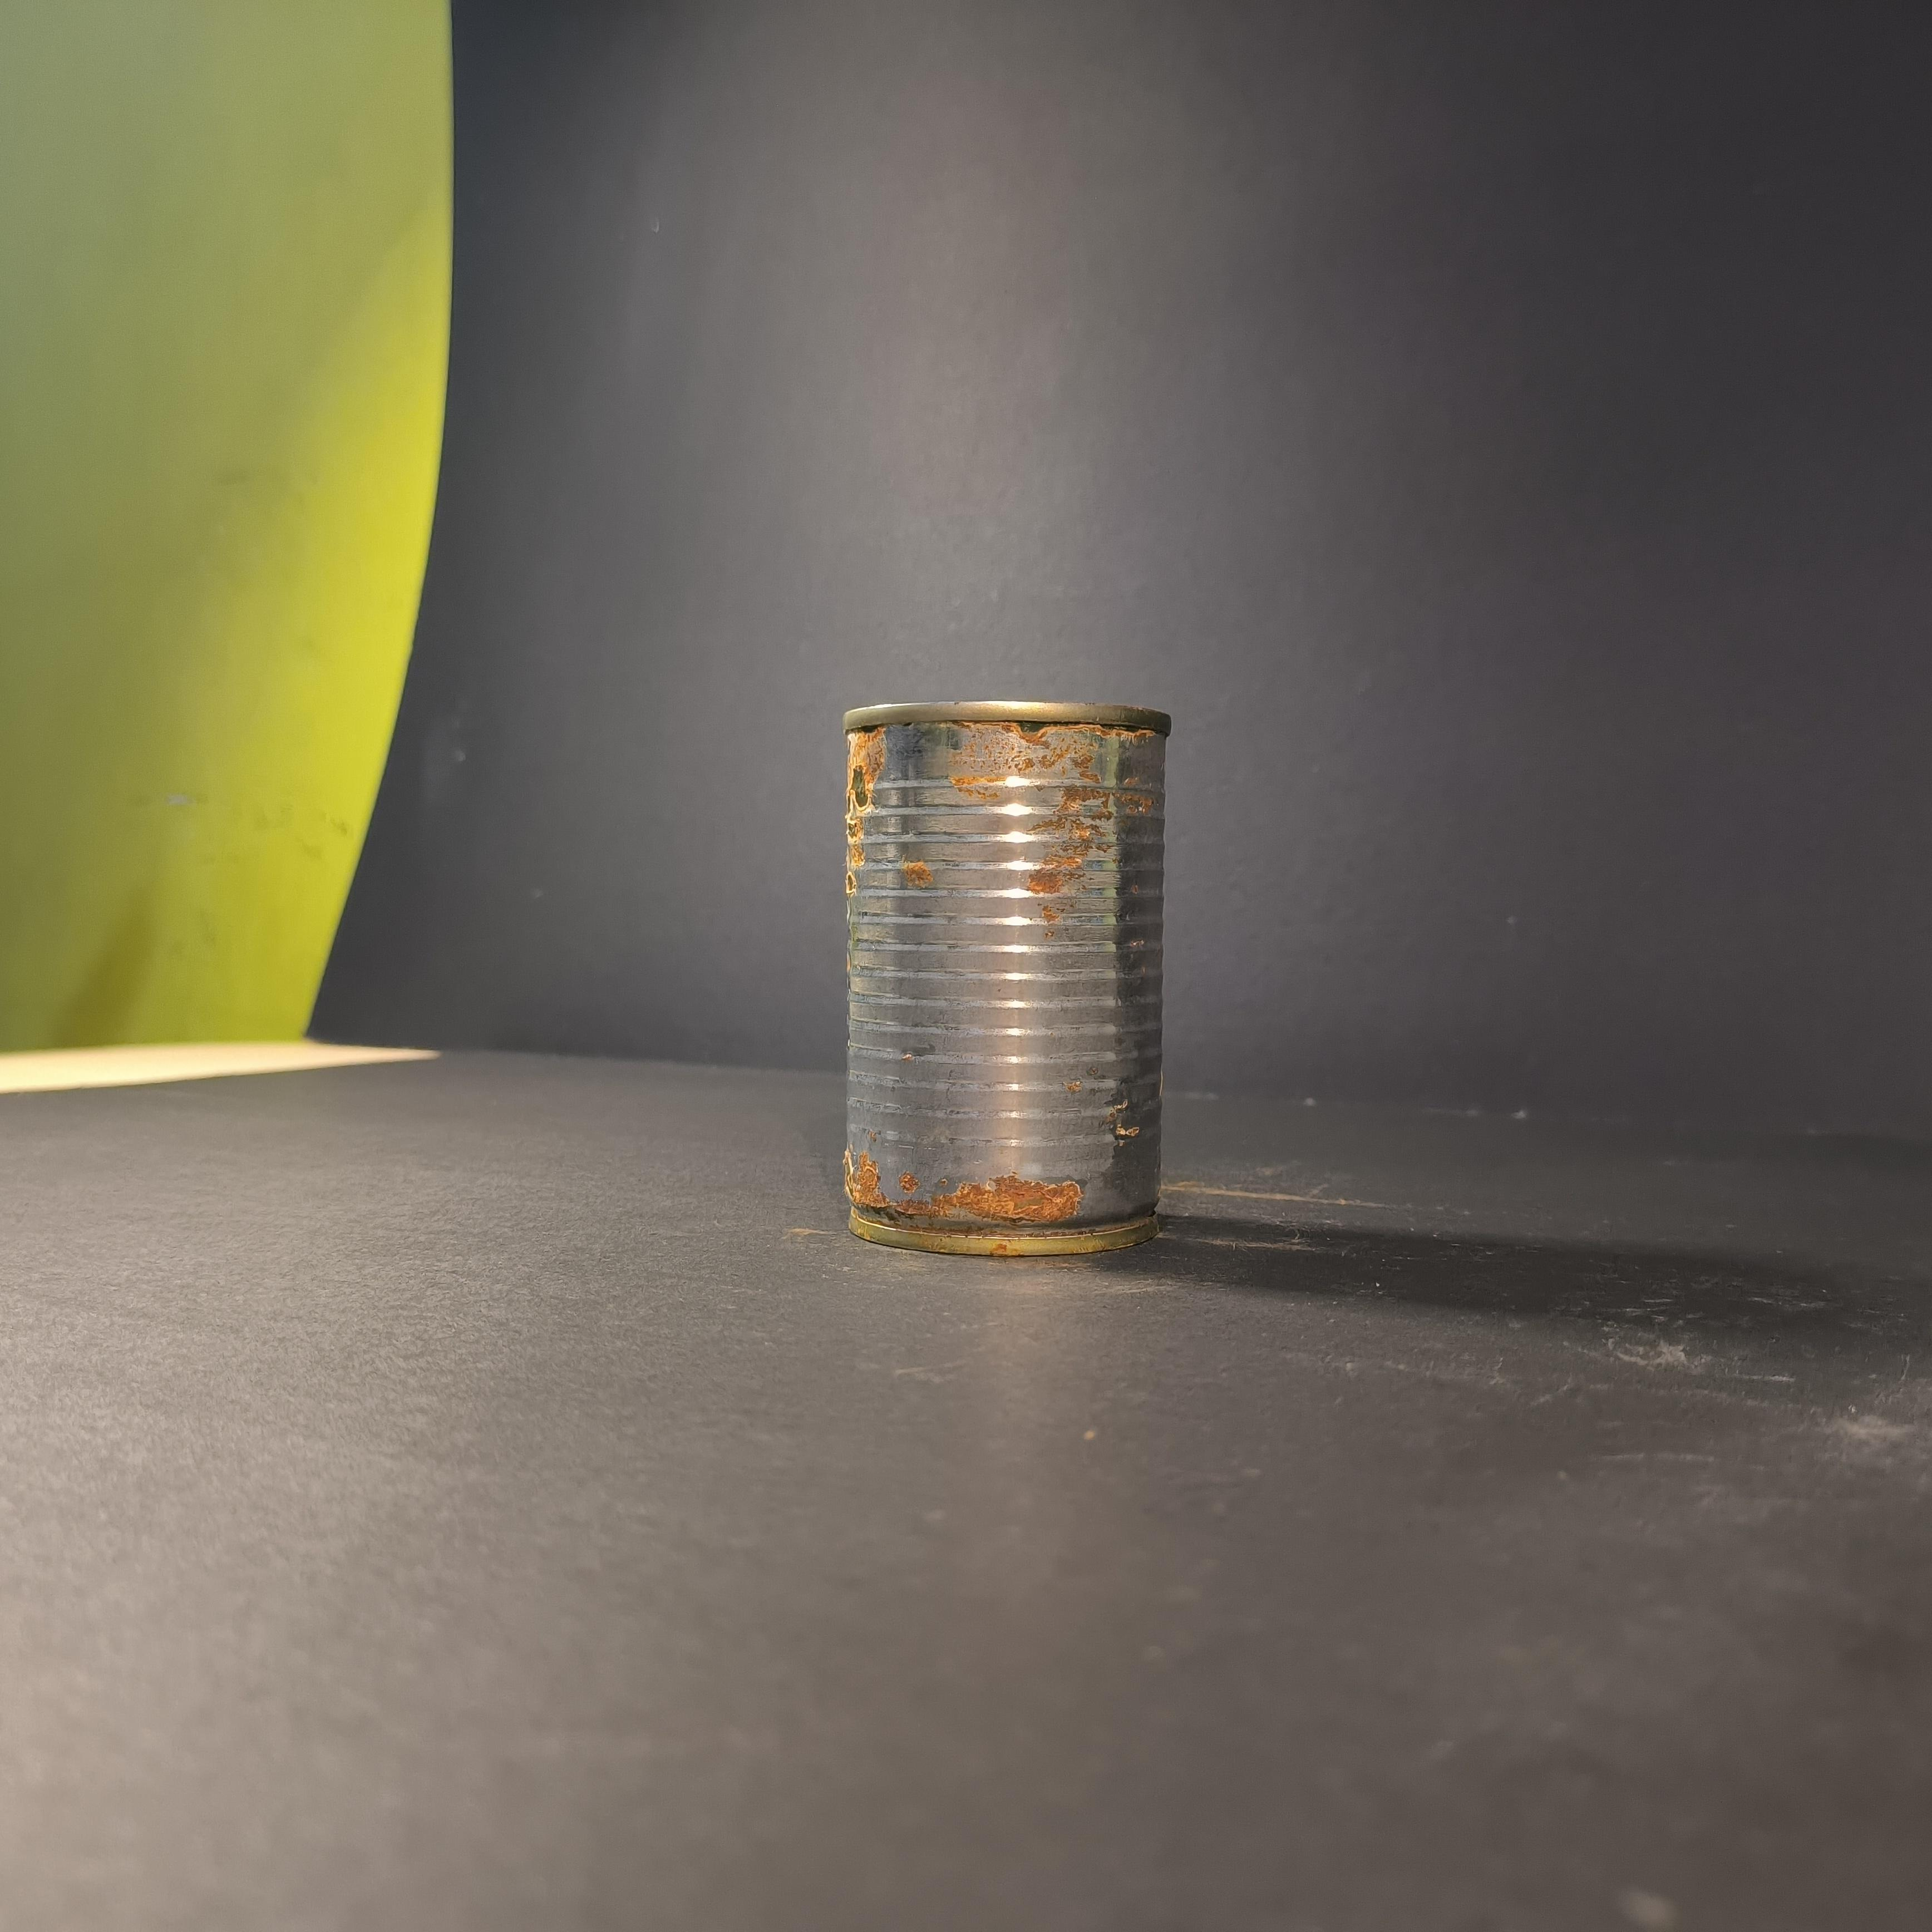Rusted: (830, 676, 1185, 1277)
